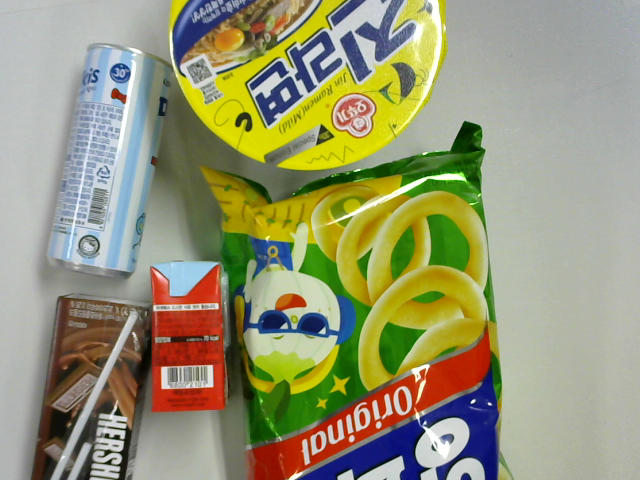Hush_Choco_Drink: (34, 285, 155, 480)
Jinlamyeon_Mild_Taste_Large_Cup: (152, 1, 453, 179)
Milkies_250ml: (46, 31, 173, 277)
Oninon_Ring: (222, 119, 513, 480)
Picnic_Apple: (135, 256, 245, 419)
